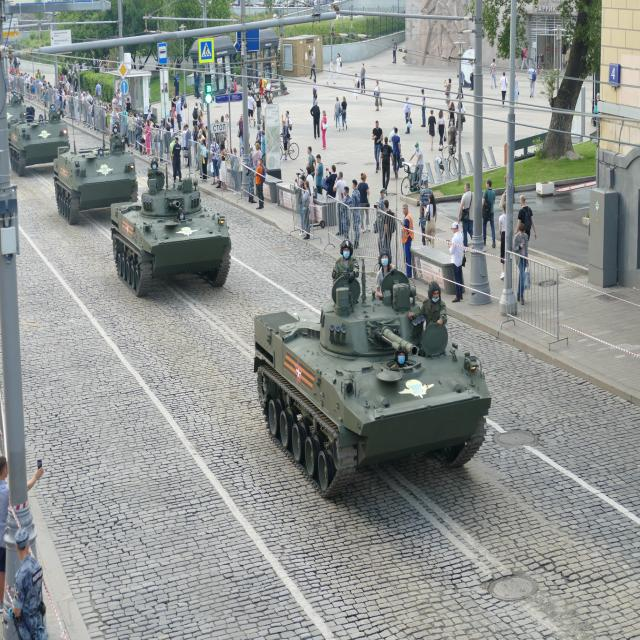tank: (242, 231, 497, 503), (105, 166, 244, 312), (54, 128, 138, 228)
